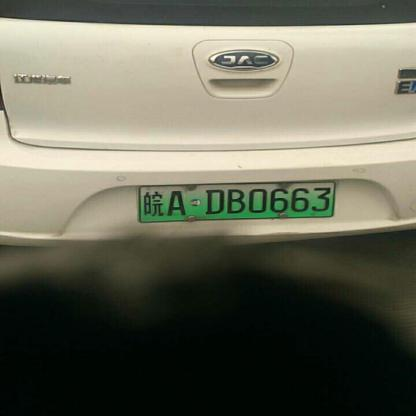lp: (140, 182, 333, 222)
